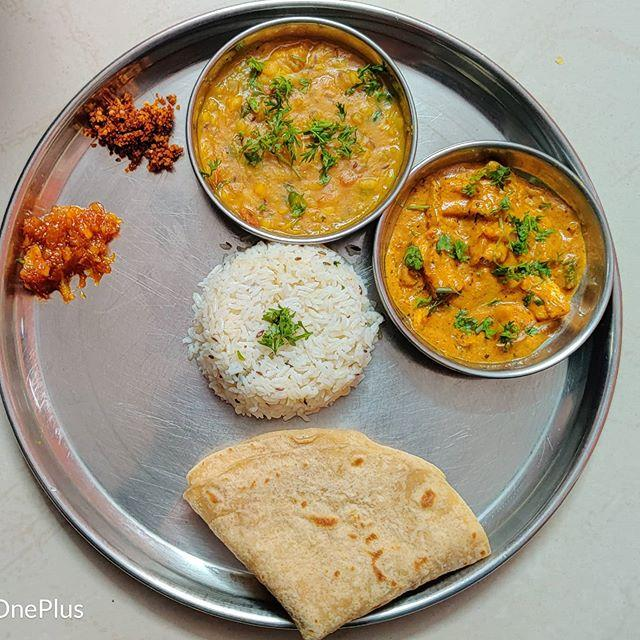Roti: (183, 432, 498, 627)
White Rice: (192, 240, 379, 420)
